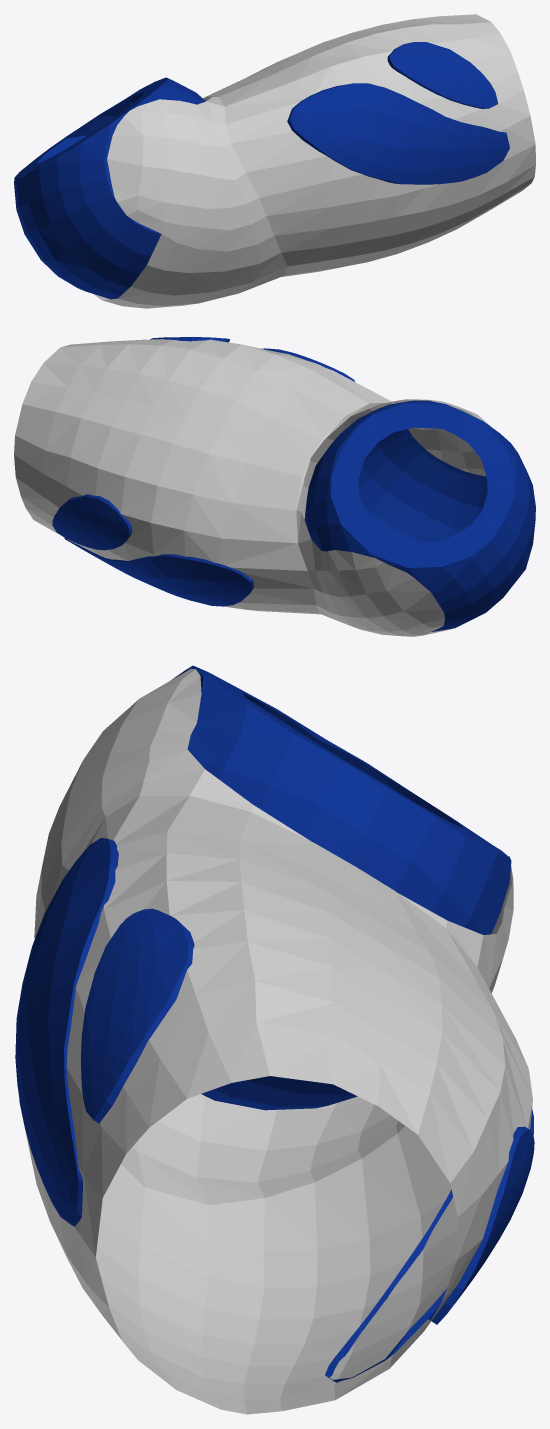
The model's file is RShoulderYaw.obj.
3 renders of one model, top to bottom at view 1: azimuth 30°, elevation 25°; view 2: azimuth 150°, elevation 25°; view 3: azimuth 270°, elevation 25°, orthographic. The views are drawn at different scales.
Visible parts, largest first — view 1: RShoulderYaw; view 2: RShoulderYaw; view 3: RShoulderYaw.
Boxes of the visible parts, x1=… form: RShoulderYaw: x1=14, y1=14, x2=535, y2=308; RShoulderYaw: x1=14, y1=337, x2=535, y2=636; RShoulderYaw: x1=15, y1=665, x2=534, y2=1414.
Bounding box in the file's own units: 0.2459 × 0.1114 × 0.1185.
